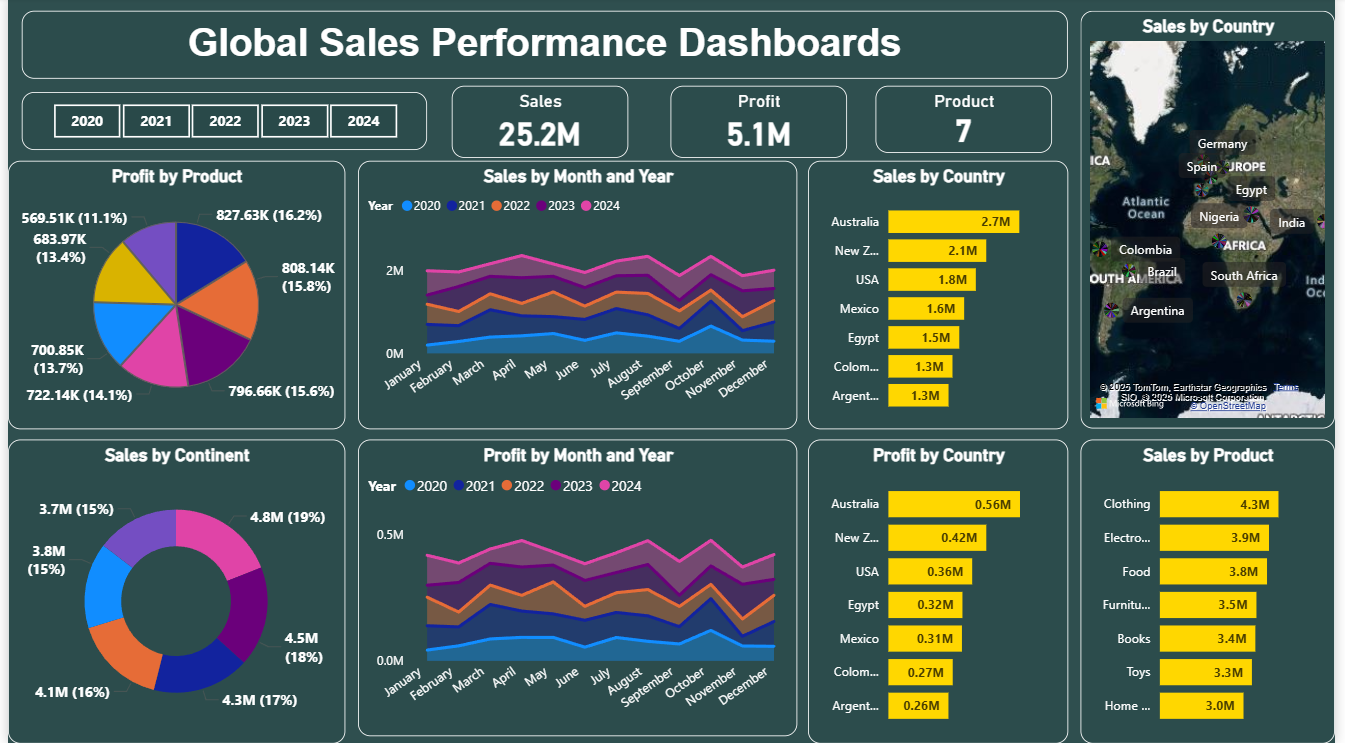

Layout of this report page (visuals, bound fields, positions):
{"tool":"powerbi","page":{"name":"Page 1","canvas":[1280,720],"ordinal":0},"visuals":[{"type":"clusteredBarChart","title":"Sales by Product","fields":{"Y":["Sum(global_sales_data.Sales)"],"Category":["global_sales_data.Product"]},"box":[1034.7,426.8,245.6,293.7],"z":0},{"type":"map","title":"Sales by Country","fields":{"Category":["global_sales_data.Country","global_sales_data.Continent"],"Size":["Sum(global_sales_data.Sales)"],"Series":["global_sales_data.Profit"]},"box":[1034.7,13.7,245.6,403.4],"z":1000},{"type":"clusteredBarChart","title":"Profit by Country","fields":{"Y":["Sum(global_sales_data.Profit)"],"Category":["global_sales_data.Country"]},"box":[772.6,426.8,251.1,293.7],"z":2000},{"type":"donutChart","title":"Sales by Continent","fields":{"Category":["global_sales_data.Continent"],"Y":["Sum(global_sales_data.Sales)"]},"box":[0,426.8,325.2,293.7],"z":3000},{"type":"stackedAreaChart","title":" Sales by Month and Year","fields":{"Y":["Sum(global_sales_data.Sales)"],"Category":["global_sales_data.Date.Variation.Date Hierarchy.Month"],"Series":["global_sales_data.Date.Variation.Date Hierarchy.Year"]},"box":[337.6,157.8,424,259.3],"z":4000},{"type":"stackedAreaChart","title":"Profit by Month and Year","fields":{"Category":["global_sales_data.Date.Variation.Date Hierarchy.Month"],"Series":["global_sales_data.Date.Variation.Date Hierarchy.Year"],"Y":["Sum(global_sales_data.Profit)"]},"box":[337.6,426.8,424,286.8],"z":5000},{"type":"pieChart","title":"Profit by Product","fields":{"Category":["global_sales_data.Product"],"Y":["Sum(global_sales_data.Profit)"]},"box":[0,157.8,325.2,259.3],"z":6000},{"type":"clusteredBarChart","title":"Sales by Country","fields":{"Y":["Sum(global_sales_data.Sales)"],"Category":["global_sales_data.Country"]},"box":[772.6,157.8,251.1,259.3],"z":7000},{"type":"textbox","box":[13.7,13.7,1010,65.9],"z":8000},{"type":"slicer","fields":{"Values":["global_sales_data.Date.Variation.Date Hierarchy.Year"]},"box":[13.7,91.9,391.1,56.3],"z":9000},{"type":"card","title":"Sales","fields":{"Values":["Sum(global_sales_data.Sales)"]},"box":[428.1,85.1,170.2,70],"z":10000},{"type":"card","title":"Profit","fields":{"Values":["Sum(global_sales_data.Profit)"]},"box":[639.5,85.1,170.2,70],"z":11000},{"type":"card","title":"Product","fields":{"Values":["Count(global_sales_data.Product)"]},"box":[837.1,85.1,170.2,64.5],"z":12000}]}

Visuals, with their boxes in screenshot pixels (x1, y1, x2, y2), scaled from the page's 1280x720 canvas onto the 1345x743 screenshot:
"Sales by Product" clusteredBarChart: select_region(1087, 440, 1344, 742)
"Sales by Country" map: select_region(1087, 14, 1344, 430)
"Profit by Country" clusteredBarChart: select_region(812, 440, 1076, 742)
"Sales by Continent" donutChart: select_region(0, 440, 342, 742)
" Sales by Month and Year" stackedAreaChart: select_region(355, 163, 800, 430)
"Profit by Month and Year" stackedAreaChart: select_region(355, 440, 800, 736)
"Profit by Product" pieChart: select_region(0, 163, 342, 430)
"Sales by Country" clusteredBarChart: select_region(812, 163, 1076, 430)
textbox: select_region(14, 14, 1076, 82)
slicer - global_sales_data.Date.Variation.Date Hierarchy.Year: select_region(14, 95, 425, 153)
"Sales" card: select_region(450, 88, 629, 160)
"Profit" card: select_region(672, 88, 851, 160)
"Product" card: select_region(880, 88, 1058, 154)
